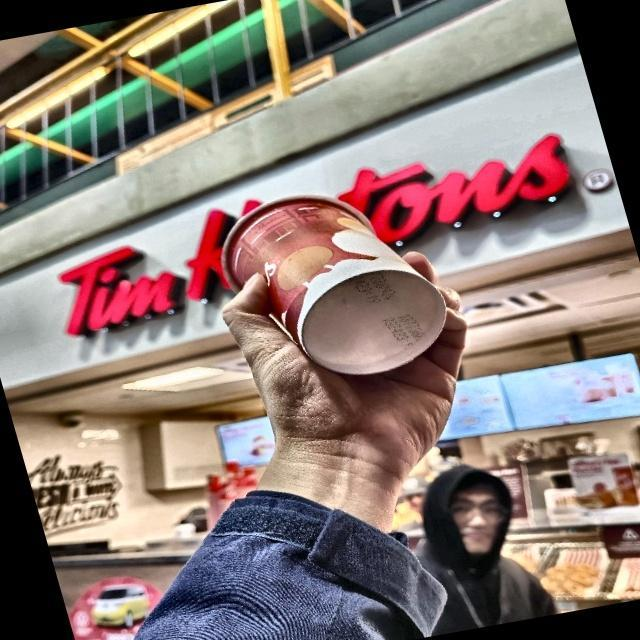timmies: (196, 162, 474, 406)
